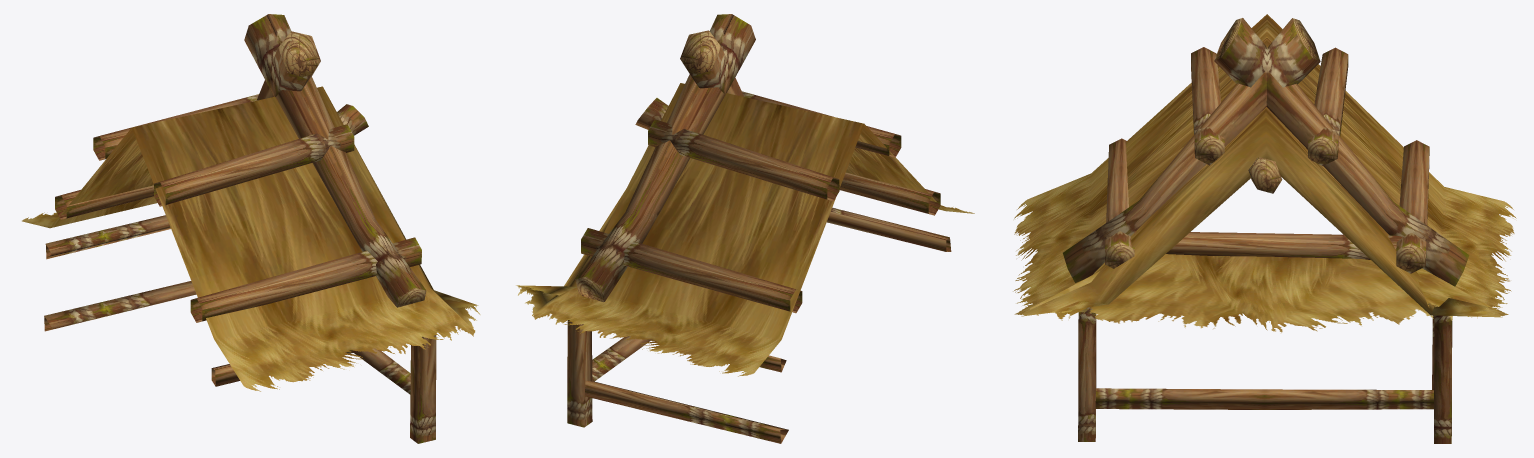
The model's file is environment_Building_caopeng_003_a.FBX.
3 views of the same model, side by side, from view 1: azimuth 30°, elevation 25°; view 2: azimuth 150°, elevation 25°; view 3: azimuth 270°, elevation 25° (orthographic). The views are drawn at different scales.
Parts seen in each view (by area): view 1: environment_Building_caopeng_003_b, environment_Building_caopeng_003_a; view 2: environment_Building_caopeng_003_b, environment_Building_caopeng_003_a; view 3: environment_Building_caopeng_003_b, environment_Building_caopeng_003_a.
Part boxes in pixels (x1=…): environment_Building_caopeng_003_b: x1=22, y1=86, x2=480, y2=391; environment_Building_caopeng_003_a: x1=44, y1=14, x2=436, y2=443; environment_Building_caopeng_003_b: x1=516, y1=83, x2=974, y2=376; environment_Building_caopeng_003_a: x1=567, y1=14, x2=951, y2=443; environment_Building_caopeng_003_b: x1=1013, y1=14, x2=1516, y2=332; environment_Building_caopeng_003_a: x1=1063, y1=18, x2=1469, y2=443.
Size of the model in its own units: 245 by 328 by 388.
